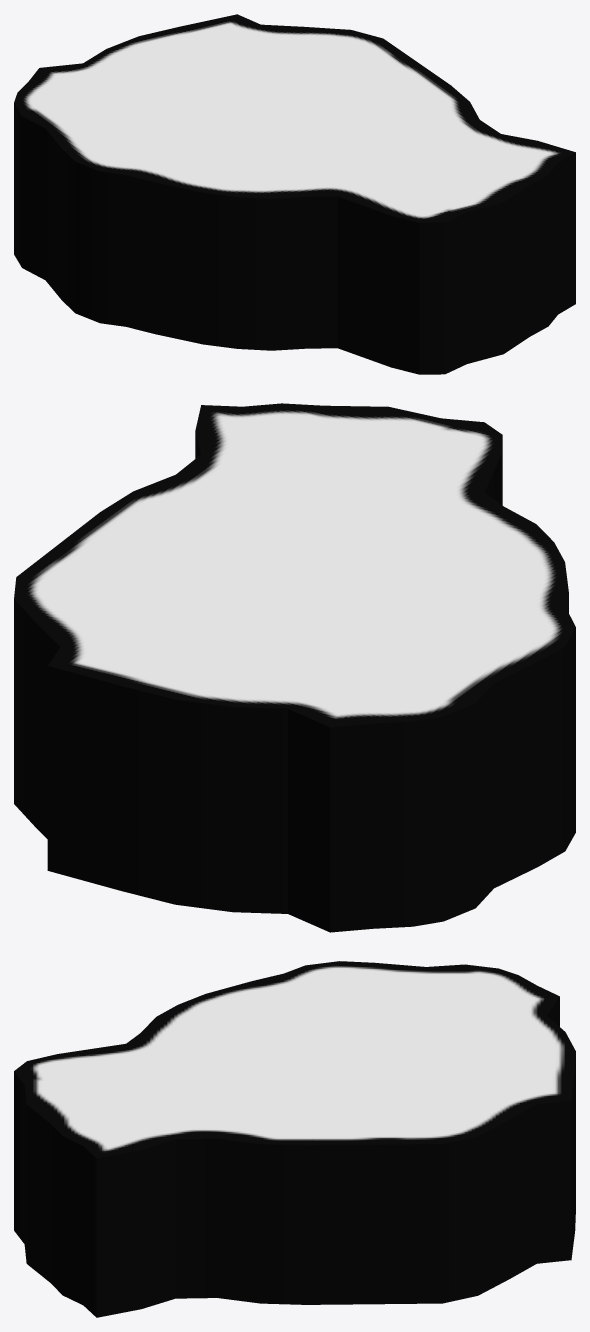
3 views of the same model, one above another, from view 1: azimuth 30°, elevation 25°; view 2: azimuth 150°, elevation 25°; view 3: azimuth 270°, elevation 25° (orthographic). The views are drawn at different scales.
Parts seen in each view (by area): view 1: polySurface17; view 2: polySurface17; view 3: polySurface17.
Boxes of the visible parts, bbox=[...] form: polySurface17: bbox=[14, 14, 575, 374]; polySurface17: bbox=[14, 403, 575, 932]; polySurface17: bbox=[14, 961, 575, 1317].
Size of the model in its own units: 1.33 by 0.5 by 1.6.
